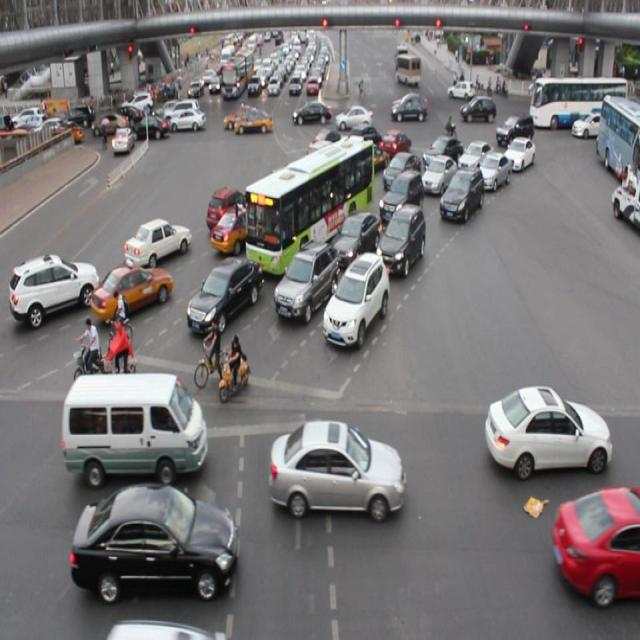car: (74, 482, 237, 596), (271, 420, 403, 513), (486, 384, 610, 472), (554, 483, 640, 599), (324, 253, 390, 347), (10, 248, 99, 315), (273, 243, 337, 320), (187, 261, 260, 326), (91, 260, 172, 317), (127, 219, 192, 267), (378, 204, 425, 270), (329, 211, 380, 269), (205, 184, 256, 234), (439, 166, 482, 223), (378, 166, 423, 220), (257, 168, 303, 214), (210, 207, 253, 250), (314, 164, 359, 202), (422, 135, 462, 176), (276, 185, 318, 223), (382, 151, 419, 193), (494, 115, 533, 153), (421, 155, 456, 193), (476, 153, 508, 193), (457, 142, 492, 178), (502, 136, 534, 172), (308, 127, 340, 163), (377, 130, 411, 163), (346, 145, 383, 173), (348, 124, 381, 155)
truck: (61, 370, 206, 477), (300, 144, 349, 187)
van: (244, 142, 374, 273)
